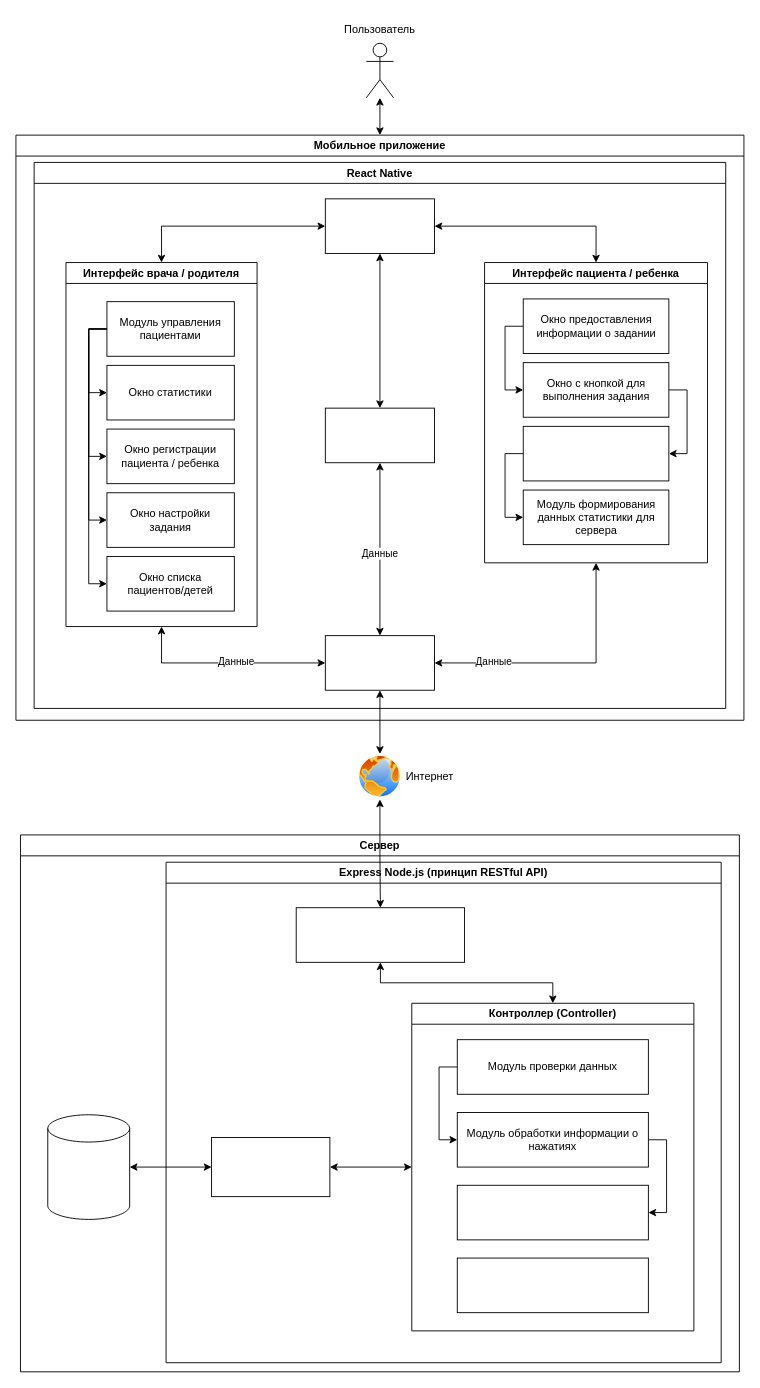
This 760x1388 diagram has some shape labels left out. The shapes that lost their labels are listed below. From the top down, each one's centre as x and y in pixels, then its label:
the point at 379,225: Обработчик событий
the point at 379,435: Модуль авторизации
the point at 595,453: Модуль сбора нажатий
the point at 379,662: Модуль взаимодействия с сервером
the point at 380,934: Маршрутизатор (Router), взаимодействие с приложением
the point at 88,1166: База данных
the point at 270,1167: Модель (Model), взаимодействие с БД
the point at 552,1212: Модуль генерации статистики
the point at 552,1285: Модуль формирования задания
